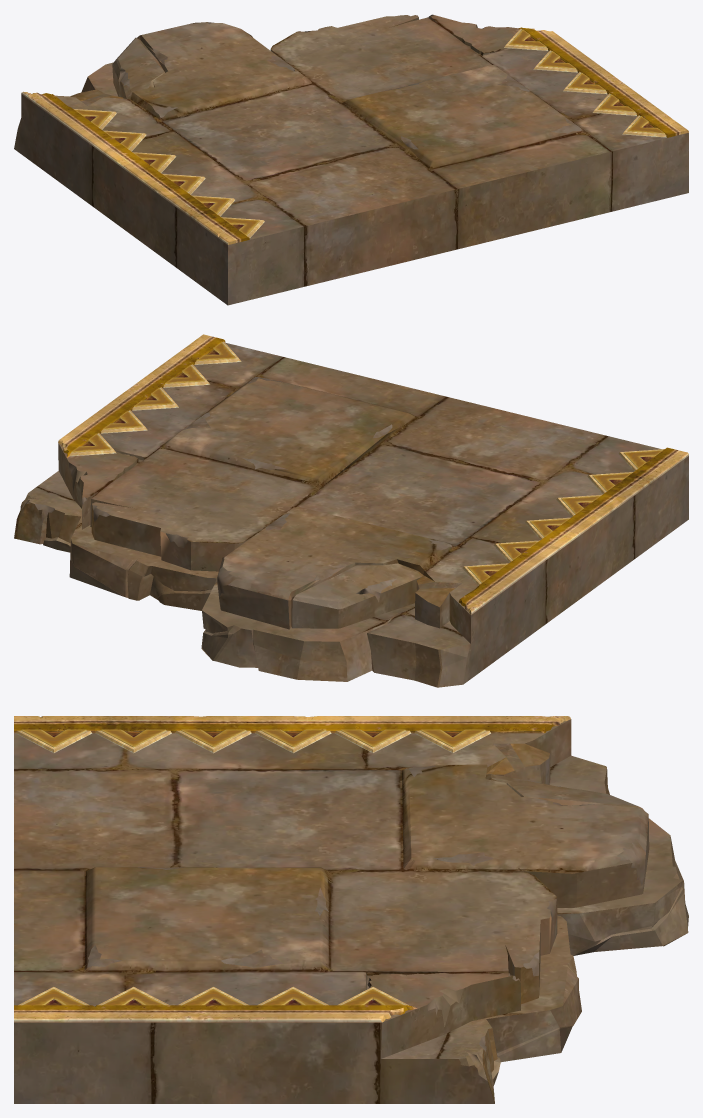
3 views of the same model, one above another, from view 1: azimuth 30°, elevation 25°; view 2: azimuth 150°, elevation 25°; view 3: azimuth 270°, elevation 25° (orthographic). The views are drawn at different scales.
Parts seen in each view (by area): view 1: SM_Vault_4m_Floor_Dmg_01_LOD0; view 2: SM_Vault_4m_Floor_Dmg_01_LOD0; view 3: SM_Vault_4m_Floor_Dmg_01_LOD0.
Part boxes in pixels (x1=…): SM_Vault_4m_Floor_Dmg_01_LOD0: x1=14, y1=14, x2=688, y2=305; SM_Vault_4m_Floor_Dmg_01_LOD0: x1=14, y1=334, x2=688, y2=687; SM_Vault_4m_Floor_Dmg_01_LOD0: x1=14, y1=716, x2=688, y2=1103.
Bounding box in the file's own units: 4 × 0.5518 × 3.76.
4 materials, 4 textured.
